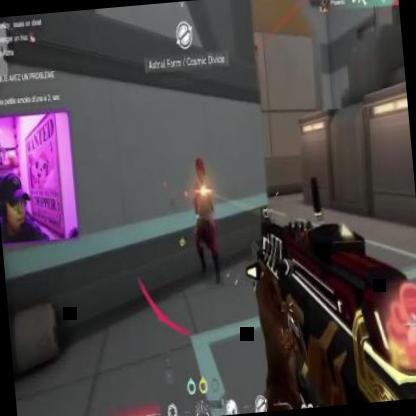enemy: (188, 156, 223, 288), (194, 158, 206, 184)
